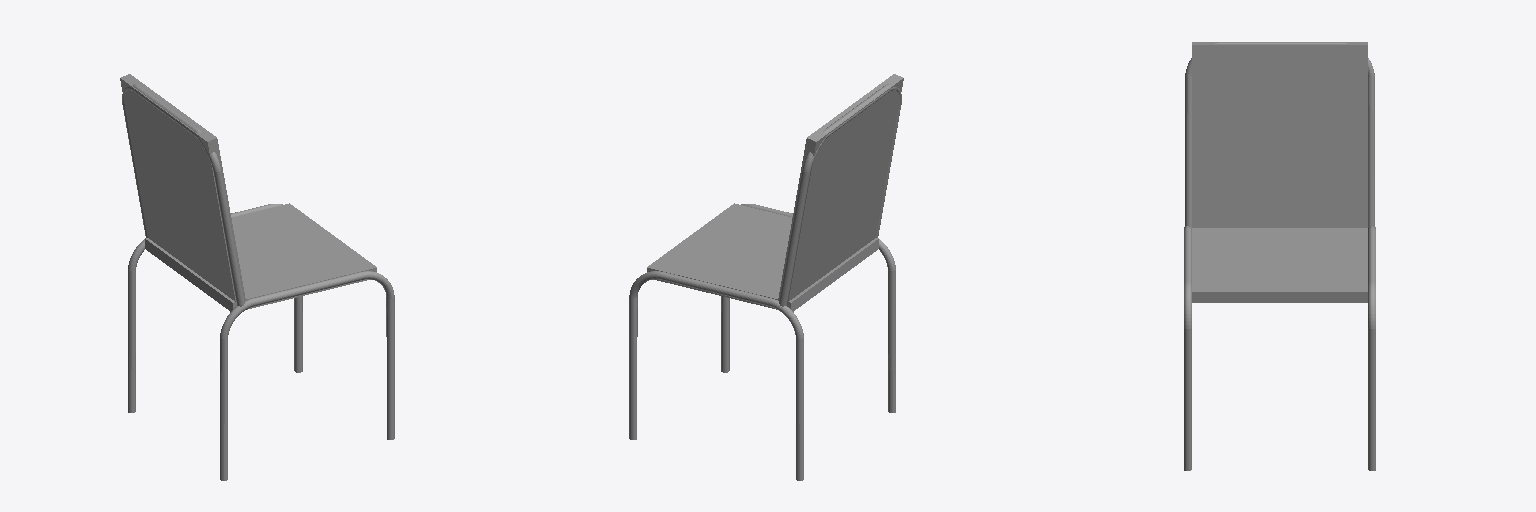
Rendered from StuhlFinal.obj.
3 views of the same model, side by side, from view 1: azimuth 30°, elevation 25°; view 2: azimuth 150°, elevation 25°; view 3: azimuth 270°, elevation 25° (orthographic).
Parts seen in each view (by area): view 1: Tischplatte_Cube.001, Tischplatte.001_Cube.000, Tischbein_Cylinder.002, Tischbein.001_Cylinder.004, Tischbein.002_Cylinder.000; view 2: Tischplatte_Cube.001, Tischplatte.001_Cube.000, Tischbein.001_Cylinder.004, Tischbein_Cylinder.002, Tischbein.002_Cylinder.000; view 3: Tischplatte_Cube.001, Tischplatte.001_Cube.000, Tischbein.002_Cylinder.000, Tischbein_Cylinder.002, Tischbein.001_Cylinder.004.
Part boxes in pixels (bbox=[...]): Tischplatte_Cube.001: bbox=[120, 74, 245, 306]; Tischplatte.001_Cube.000: bbox=[145, 203, 376, 311]; Tischbein_Cylinder.002: bbox=[220, 271, 394, 480]; Tischbein.001_Cylinder.004: bbox=[128, 204, 302, 412]; Tischbein.002_Cylinder.000: bbox=[122, 84, 244, 306]; Tischplatte_Cube.001: bbox=[778, 74, 903, 306]; Tischplatte.001_Cube.000: bbox=[647, 203, 878, 311]; Tischbein.001_Cylinder.004: bbox=[629, 271, 803, 480]; Tischbein_Cylinder.002: bbox=[721, 204, 895, 412]; Tischbein.002_Cylinder.000: bbox=[779, 84, 901, 306]; Tischplatte_Cube.001: bbox=[1192, 42, 1367, 227]; Tischplatte.001_Cube.000: bbox=[1192, 228, 1367, 302]; Tischbein.002_Cylinder.000: bbox=[1185, 42, 1374, 227]; Tischbein_Cylinder.002: bbox=[1184, 226, 1191, 470]; Tischbein.001_Cylinder.004: bbox=[1368, 226, 1375, 470].
Bounding box in the file's own units: 1.85 × 3.26 × 1.67.